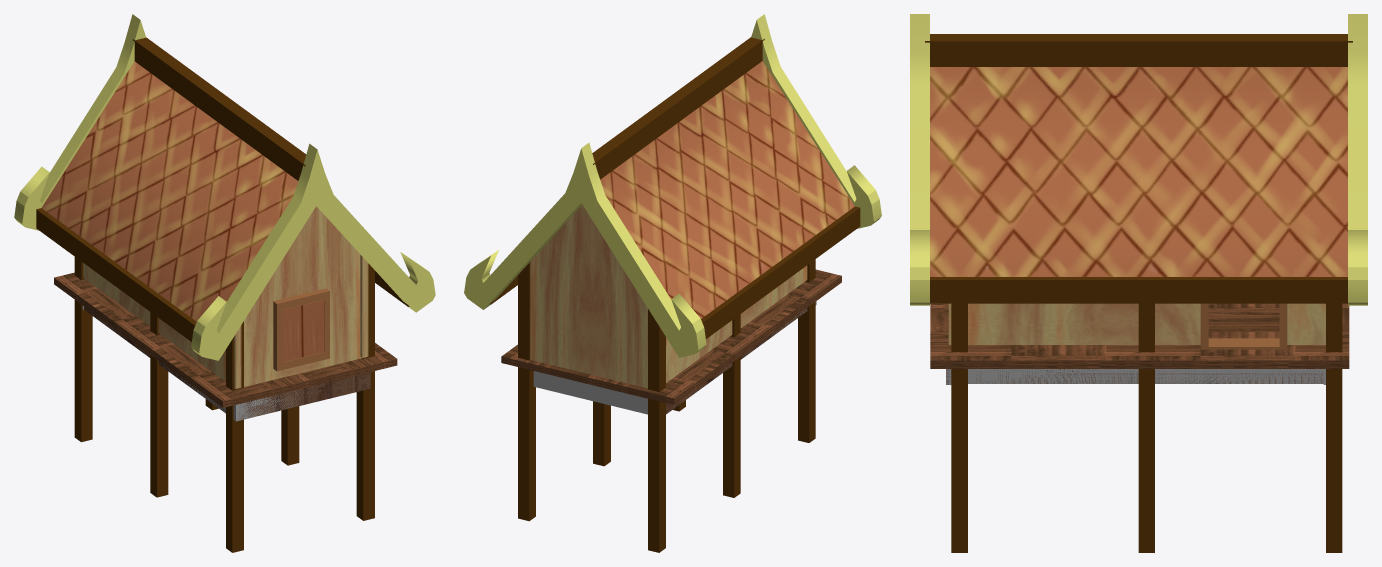
3 renders of one model, left to right at view 1: azimuth 30°, elevation 25°; view 2: azimuth 150°, elevation 25°; view 3: azimuth 270°, elevation 25°, orthographic. The views are drawn at different scales.
Visible parts, largest first — view 1: pasted__pCube5, pCube7, pasted__group1_pasted__pCube1, pasted__pasted__pasted__pCube3, pCube2, pCube13, pCube14, pasted__group3_pasted__pasted__pCube3, group8_pasted__group7_pasted__pasted__pCube3, pCube10, pasted__pCube8, pasted__pasted__pCube3; view 2: pasted__pCube5, pasted__pasted__pasted__pCube3, pasted__group1_pasted__pCube1, pCube7, pCube2, pCube13, pCube14, pasted__group3_pasted__pasted__pCube3, pasted__pasted__pCube3, group8_pasted__group7_pasted__pasted__pCube3; view 3: pasted__pCube5, pCube13, pCube2, pasted__group1_pasted__pCube1, pCube7, pCube14, pasted__group3_pasted__pasted__pCube3, pCube3, pCube12, group8_pasted__group7_pasted__pasted__pCube3.
Part boxes in pixels (x1,y1,x2,y2): pasted__pCube5: [41, 61, 298, 321]; pCube7: [14, 14, 435, 360]; pasted__group1_pasted__pCube1: [74, 257, 374, 552]; pasted__pasted__pasted__pCube3: [244, 206, 361, 386]; pCube2: [54, 272, 397, 407]; pCube13: [132, 37, 306, 180]; pCube14: [36, 208, 409, 341]; pasted__group3_pasted__pasted__pCube3: [83, 255, 368, 388]; group8_pasted__group7_pasted__pasted__pCube3: [84, 306, 370, 420]; pCube10: [282, 300, 323, 361]; pasted__pCube8: [273, 288, 329, 371]; pasted__pasted__pCube3: [82, 305, 309, 421]; pasted__pCube5: [600, 61, 854, 318]; pasted__pasted__pasted__pCube3: [530, 204, 647, 388]; pasted__group1_pasted__pCube1: [518, 259, 815, 552]; pCube7: [464, 14, 881, 357]; pCube2: [501, 269, 841, 404]; pCube13: [592, 37, 764, 179]; pCube14: [490, 206, 860, 338]; pasted__group3_pasted__pasted__pCube3: [666, 265, 807, 382]; pasted__pasted__pCube3: [533, 301, 816, 414]; group8_pasted__group7_pasted__pasted__pCube3: [666, 308, 807, 414]; pasted__pCube5: [930, 67, 1347, 276]; pCube13: [925, 34, 1352, 66]; pCube2: [930, 303, 1349, 368]; pasted__group1_pasted__pCube1: [951, 303, 1342, 552]; pCube7: [910, 14, 1367, 305]; pCube14: [930, 277, 1347, 303]; pasted__group3_pasted__pasted__pCube3: [948, 303, 1325, 344]; pCube3: [968, 369, 1323, 383]; pCube12: [1200, 303, 1287, 349]; group8_pasted__group7_pasted__pasted__pCube3: [946, 369, 1323, 384].
Size of the model in its own units: 9.03 by 14.56 by 12.23.
13 materials, 6 textured.
